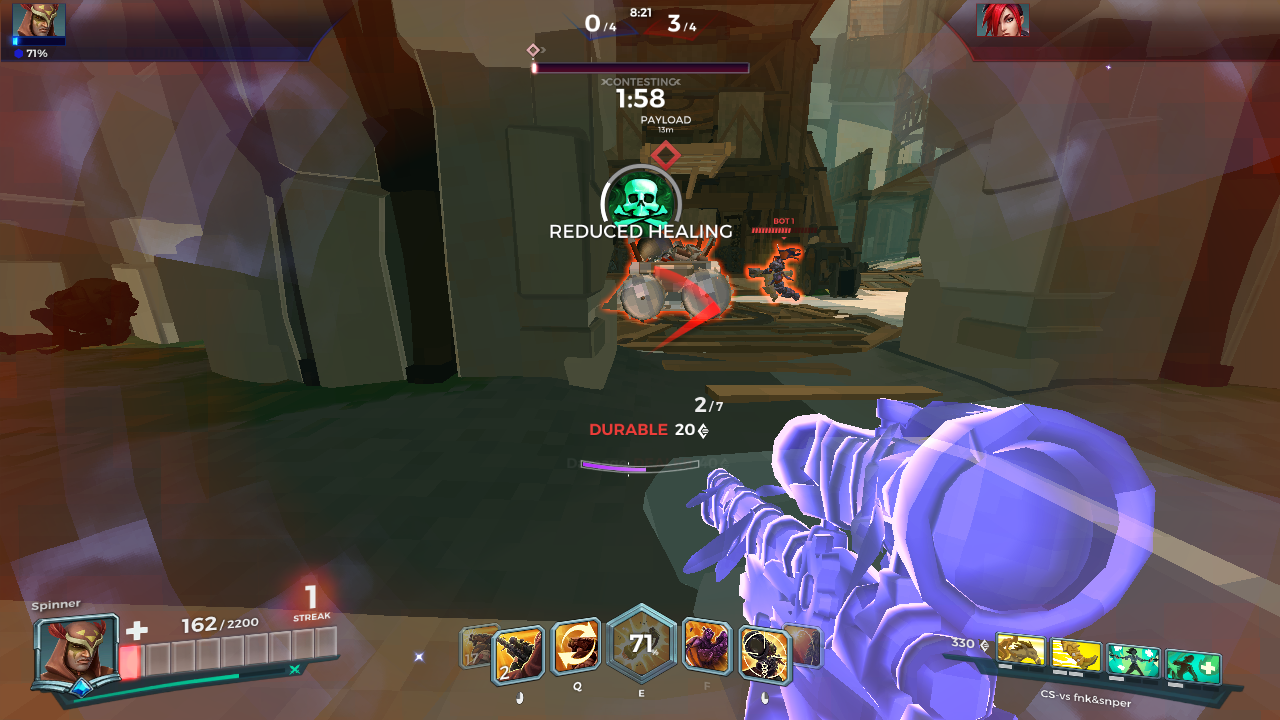model: (749, 239, 800, 310)
